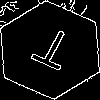T: (25, 25, 78, 80)
